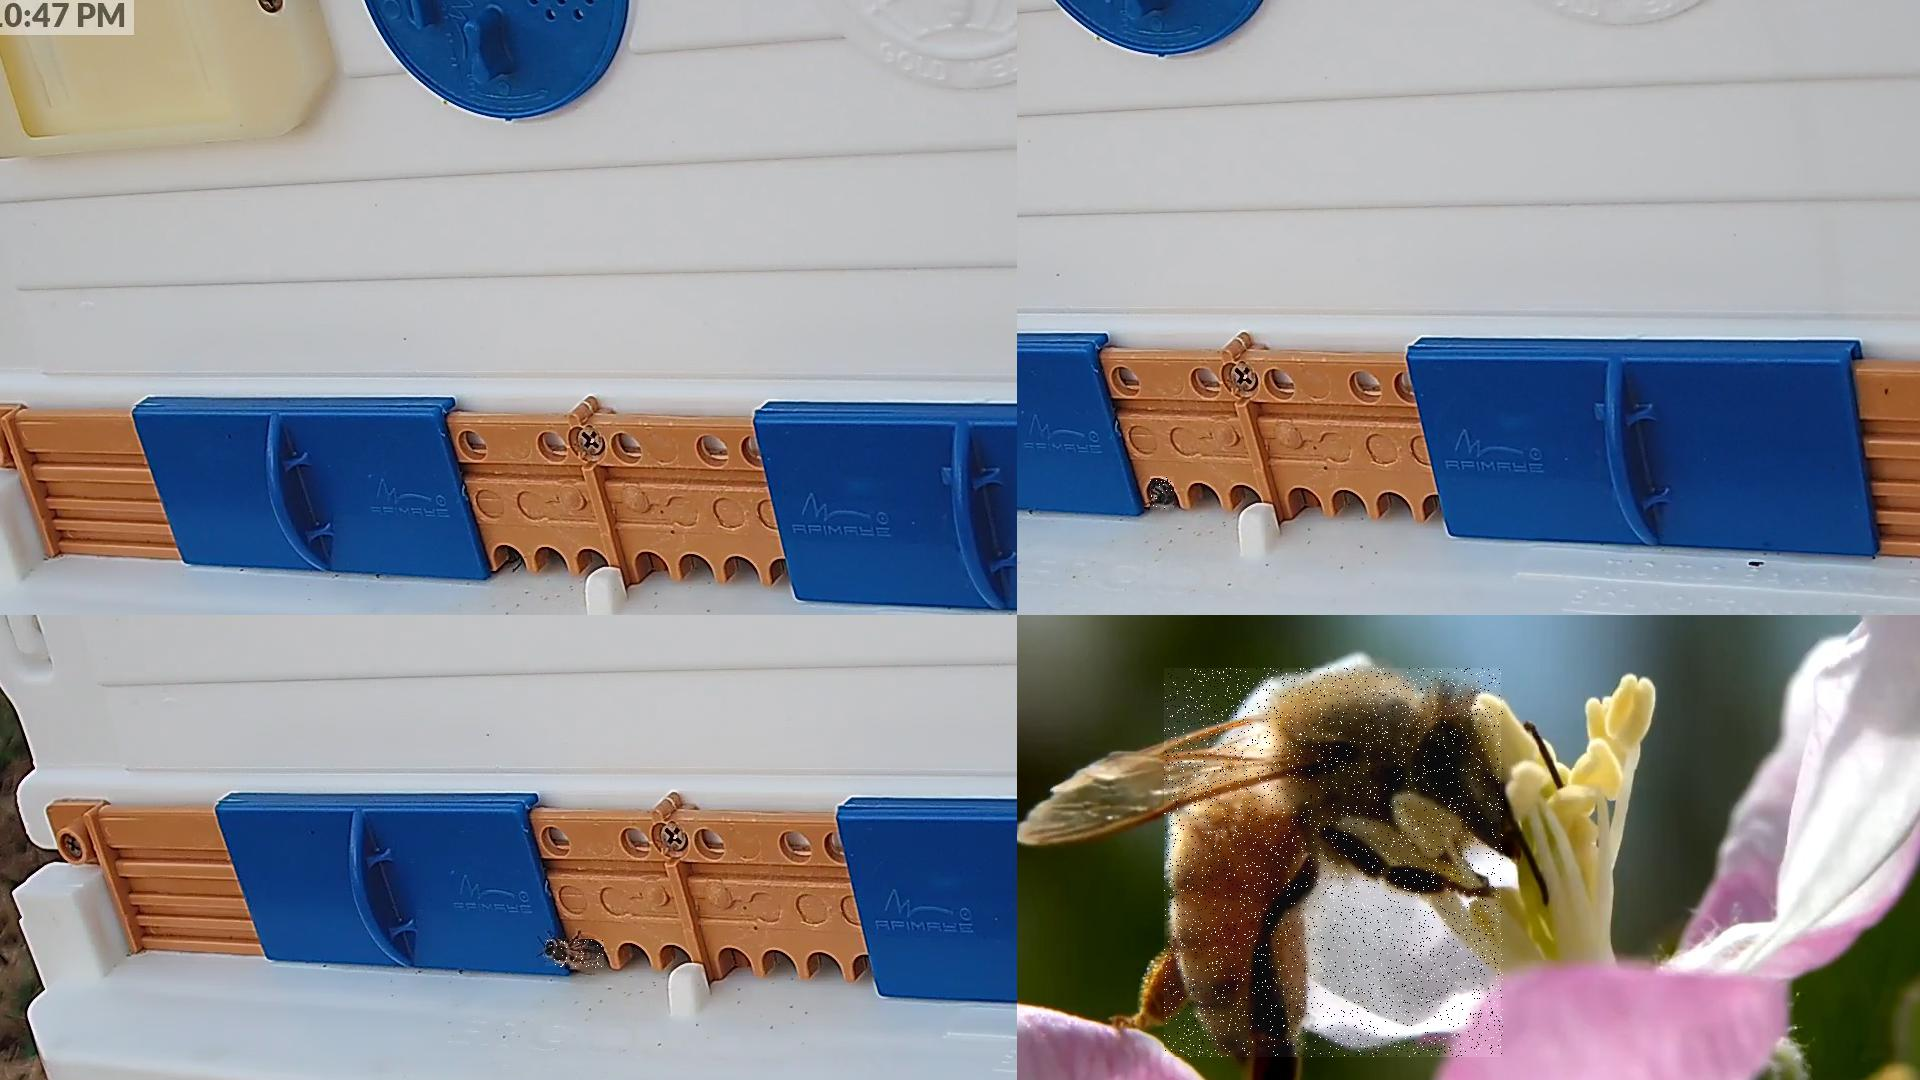bee: (545, 940, 605, 970), (1150, 477, 1175, 511)
pollenbee: (1165, 668, 1505, 1058)
